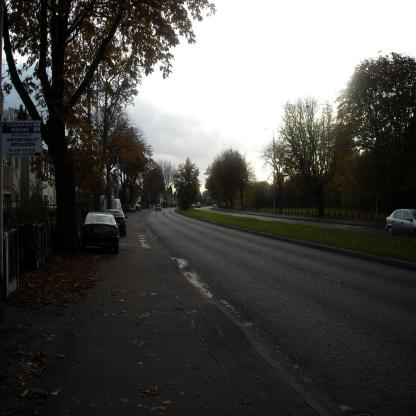Car: (77, 205, 120, 251), (385, 209, 416, 239), (105, 208, 128, 236), (128, 204, 136, 212), (134, 204, 140, 212), (155, 204, 161, 212), (196, 202, 201, 208), (190, 203, 195, 207), (212, 204, 216, 207)
